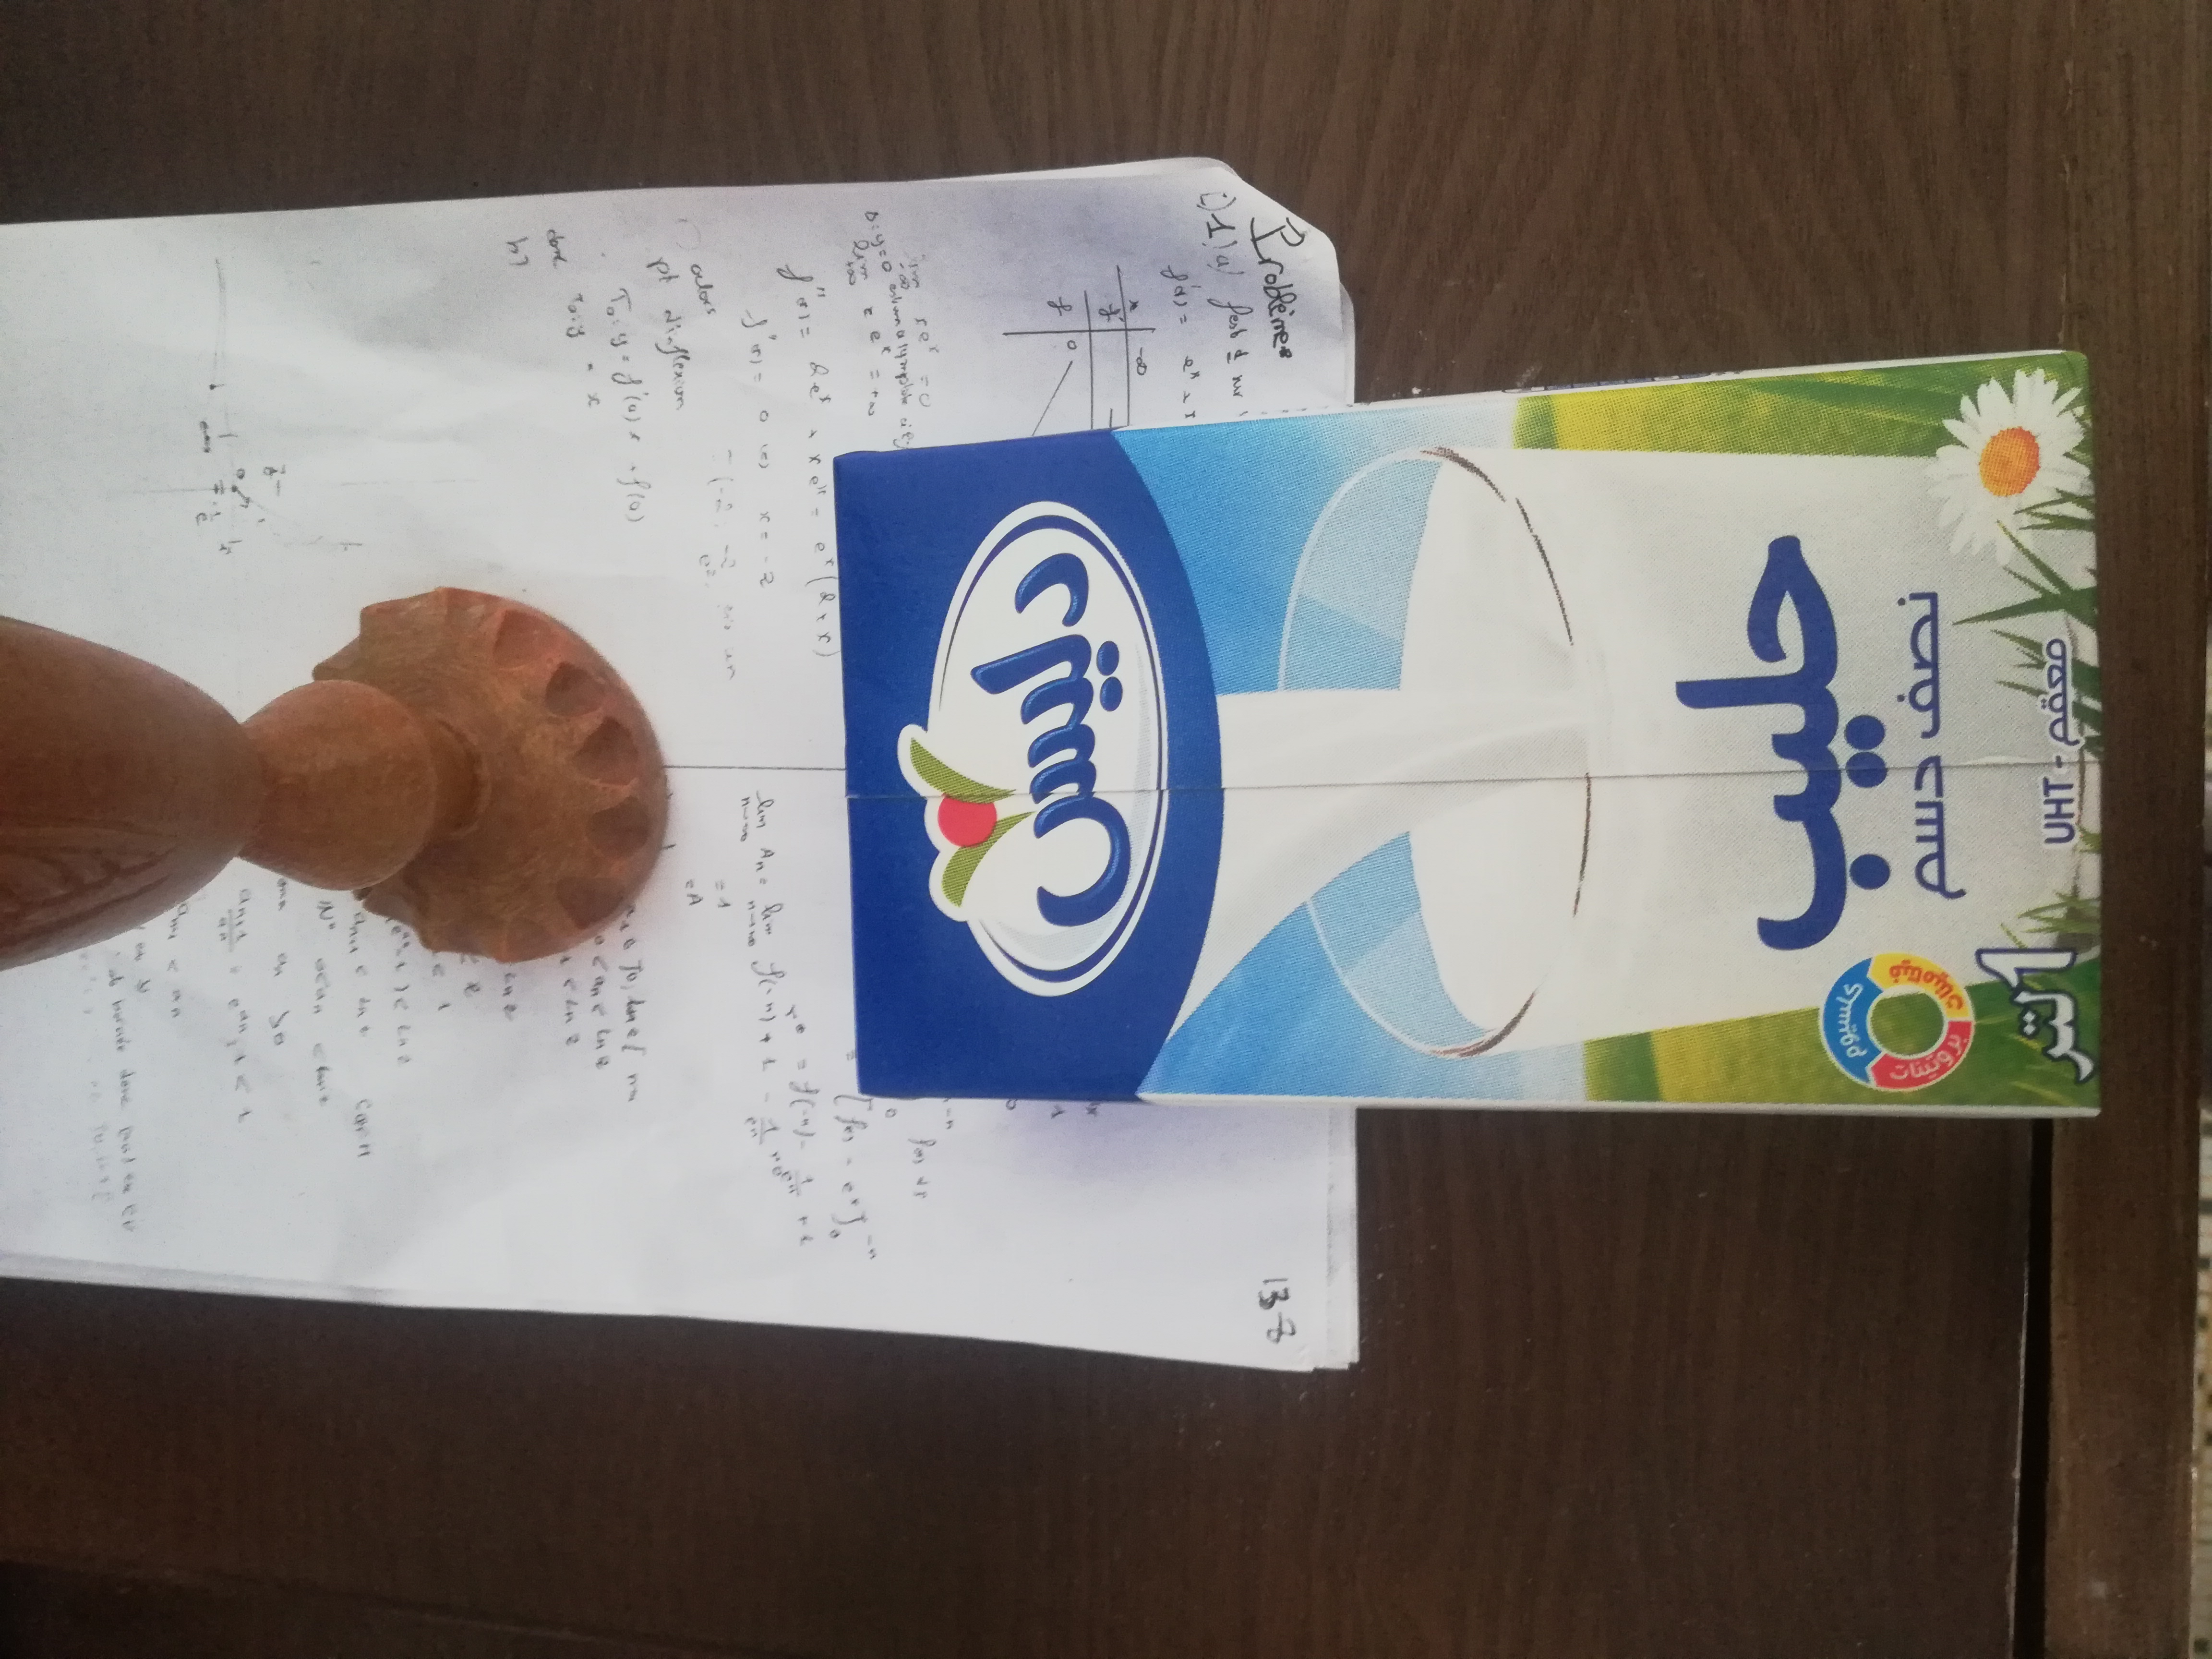Lait delice: (833, 347, 2111, 1124)
